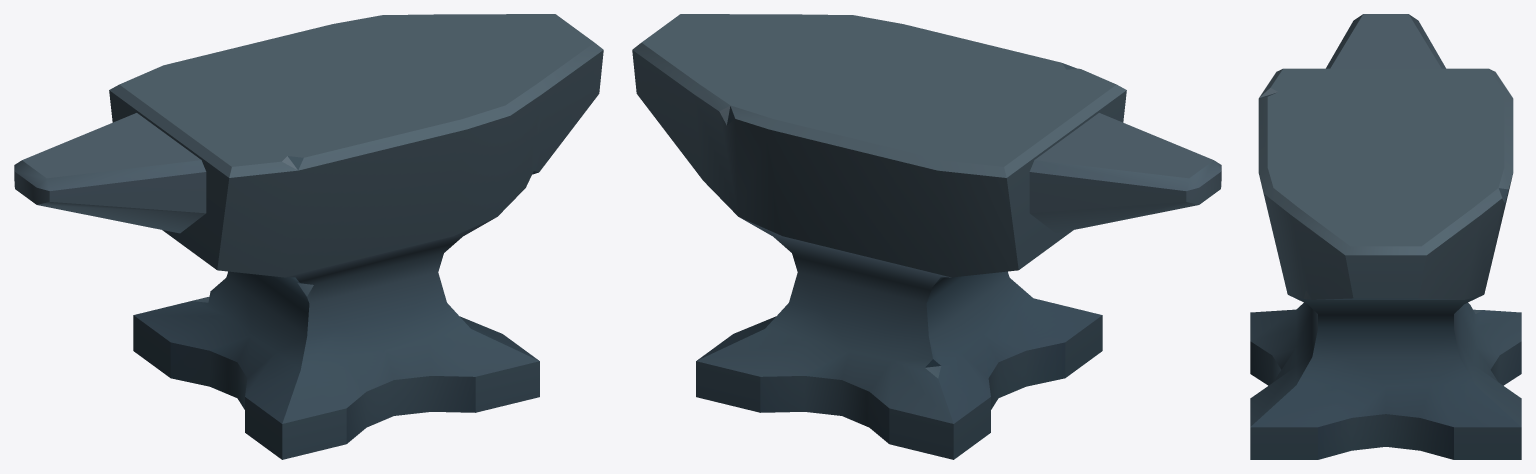
Rendered from KT_anvil.glb.
3 views of the same model, side by side, from view 1: azimuth 30°, elevation 25°; view 2: azimuth 150°, elevation 25°; view 3: azimuth 270°, elevation 25° (orthographic). The views are drawn at different scales.
Parts seen in each view (by area): view 1: anvil; view 2: anvil; view 3: anvil.
Part boxes in pixels (x1,y1,x2,y2): anvil: (14,14,603,459); anvil: (632,14,1221,459); anvil: (1250,14,1521,459).
Bounding box in the file's own units: 1.62 × 0.8 × 0.75.
